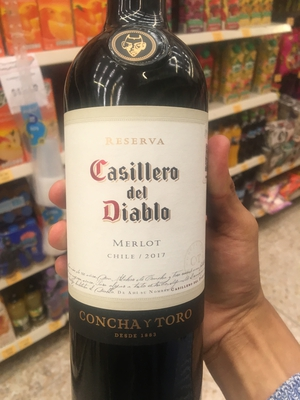casillero del diablo merlot: (61, 13, 223, 400)
